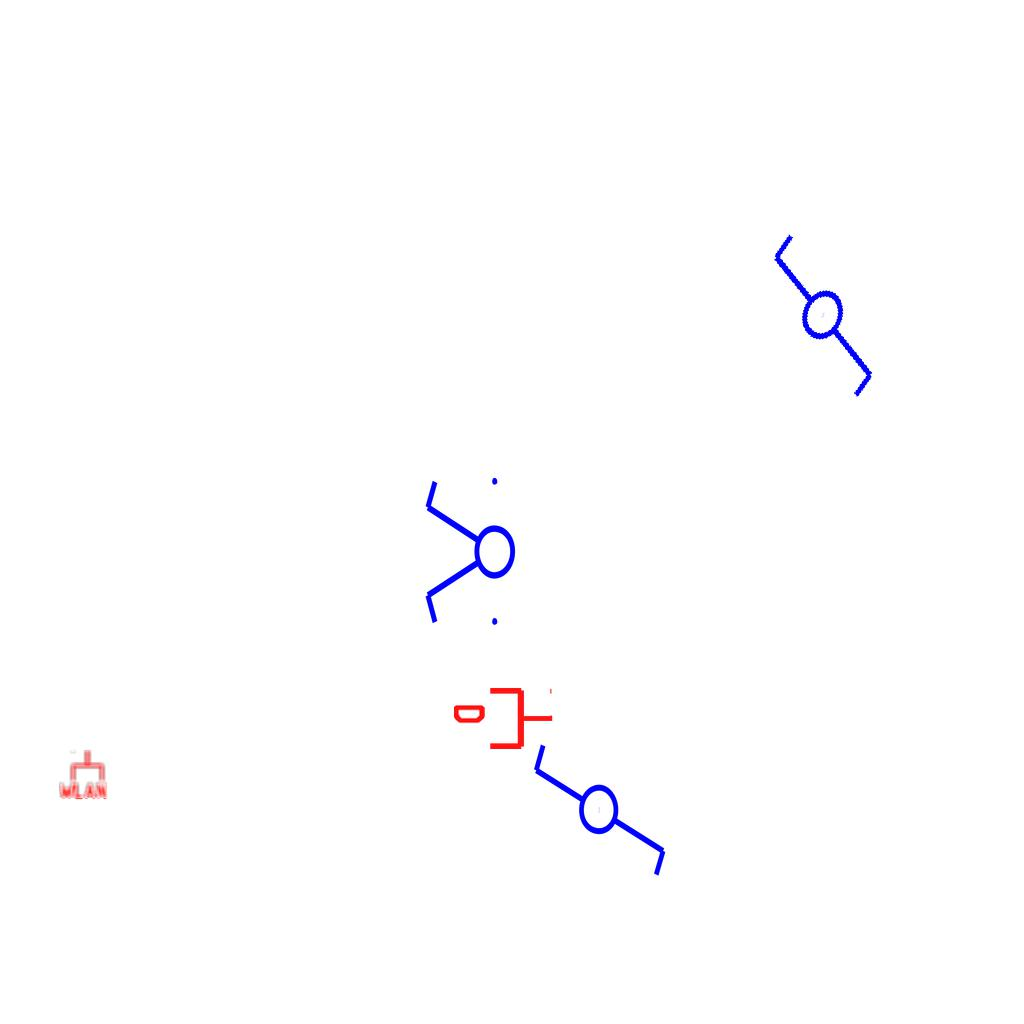Datenanschluss_einfach: (454, 684, 554, 753)
Serienschalter: (421, 469, 517, 637)
WLAN: (57, 748, 109, 800)
Wechselschalter: (733, 210, 922, 406), (529, 723, 673, 880)
